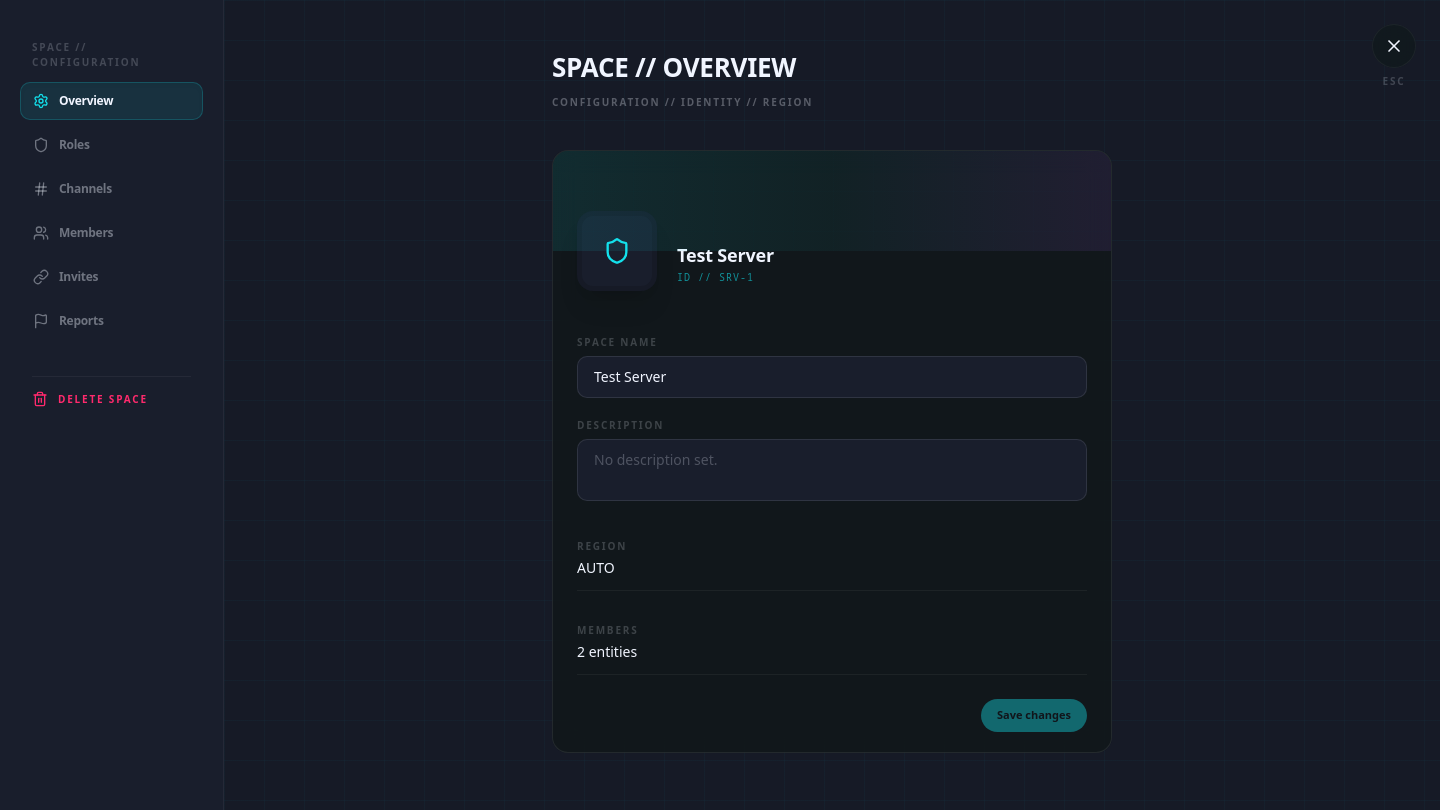
Test case: ServerSettingsScreen › shows the clipboard warning when invite copying is blocked
The image size is (1440, 810).
Click the button "Invites" at (112, 277), box x1=20 y1=258 x2=203 y2=296
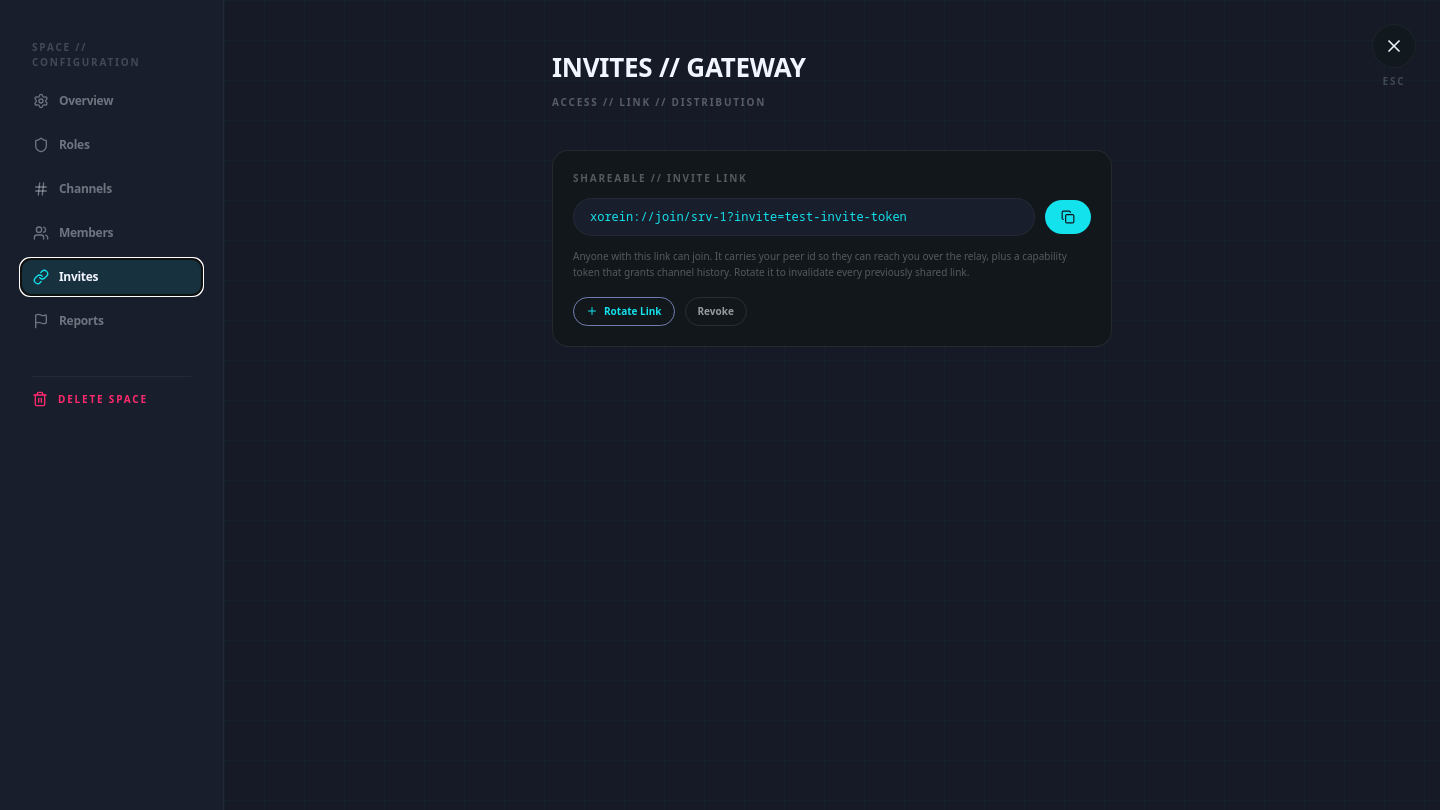
Click the button named "copy invite link" at (1068, 217), box x1=1045 y1=200 x2=1091 y2=234
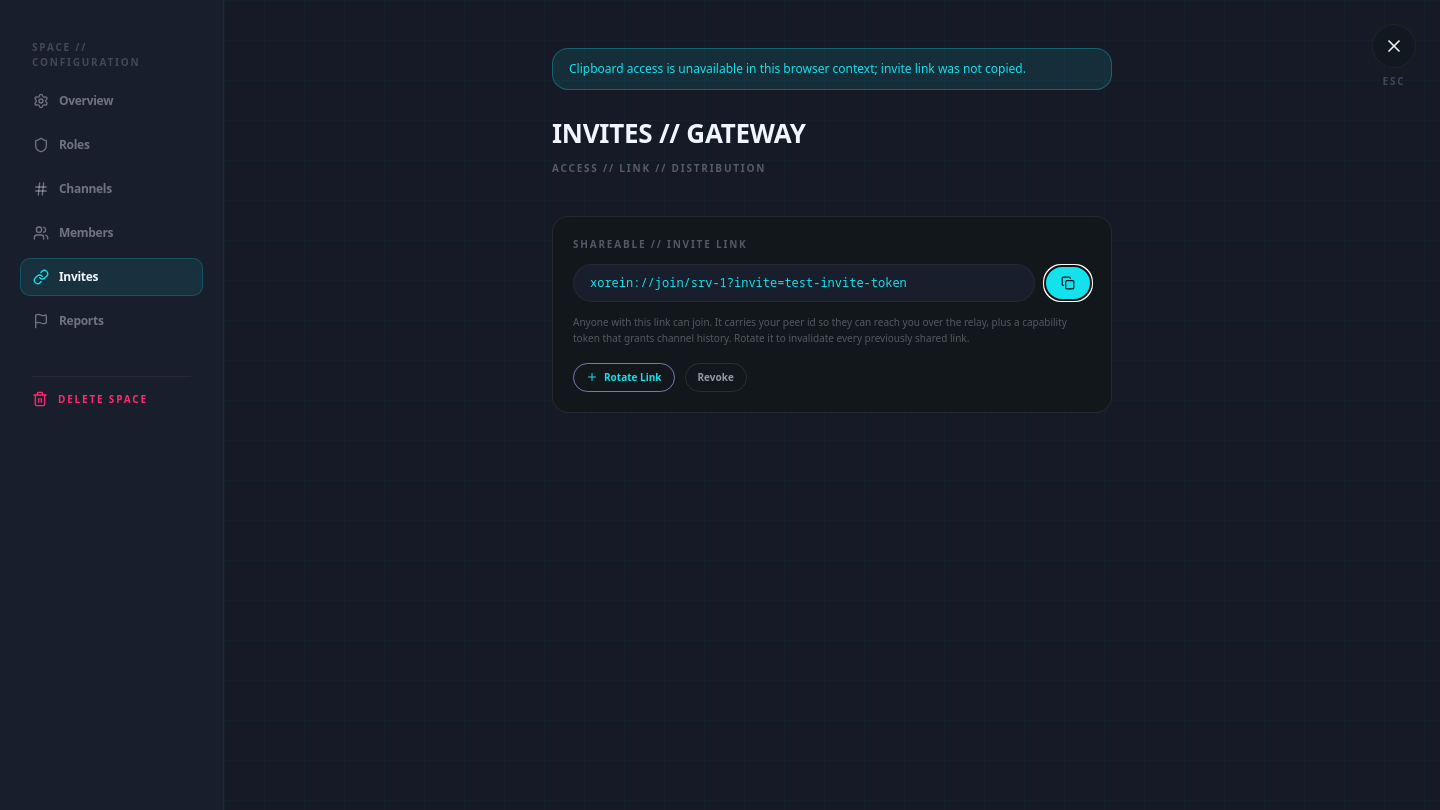
expect the text "Clipboard access is unavailable" is shown: met, box x1=569 y1=60 x2=1026 y2=77
